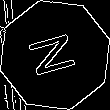N_E: (25, 29, 85, 81)
